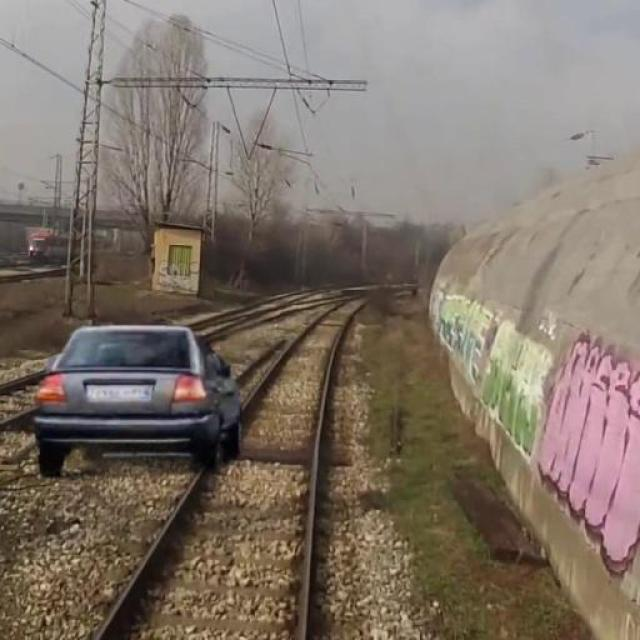vehicle: (28, 322, 248, 472)
